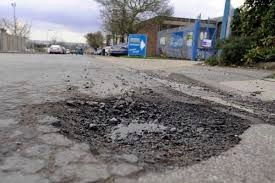pothole: (35, 89, 249, 167)
